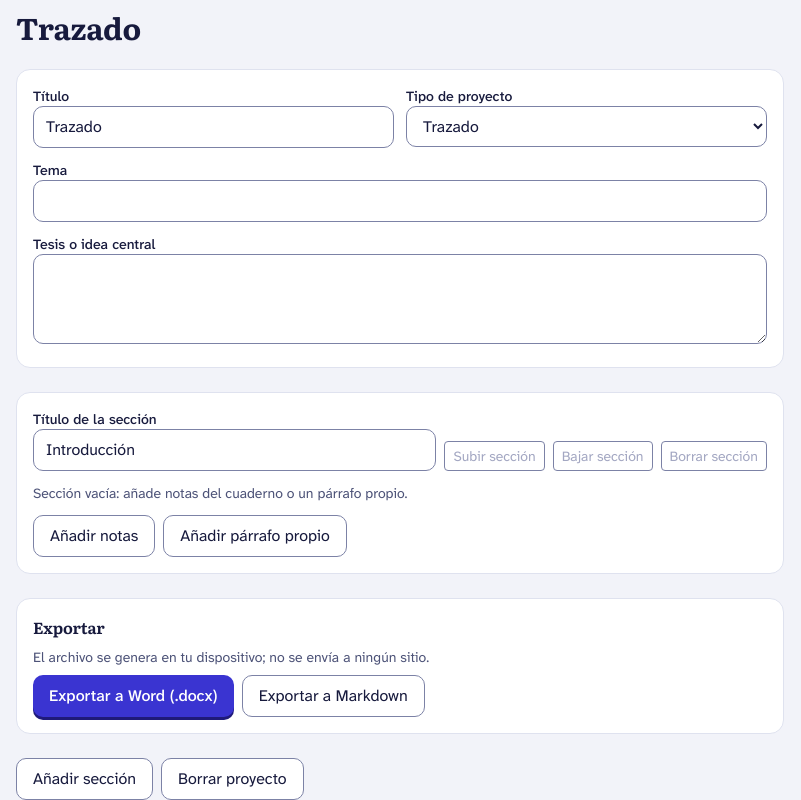
Test: ProjectEditor › si no se puede borrar el proyecto, lo dice
(page scrolled)
Click the button "Borrar proyecto": [232, 779] box [161, 758, 304, 799]
(page scrolled)
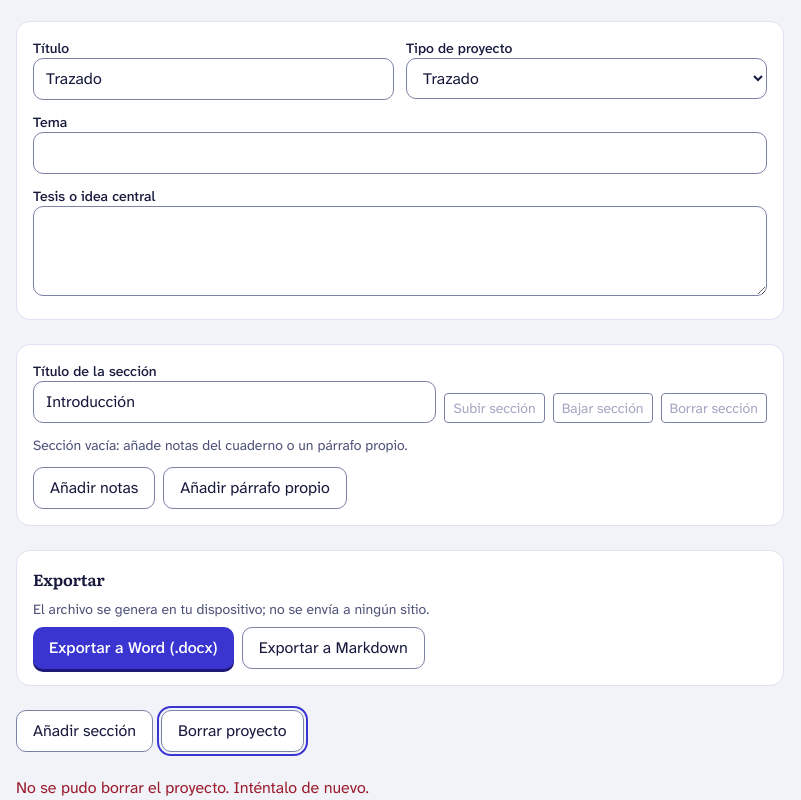
Result: the message reads "No se pudo borrar el proyecto. Inténtalo de nuevo." at [16, 777, 369, 798]
